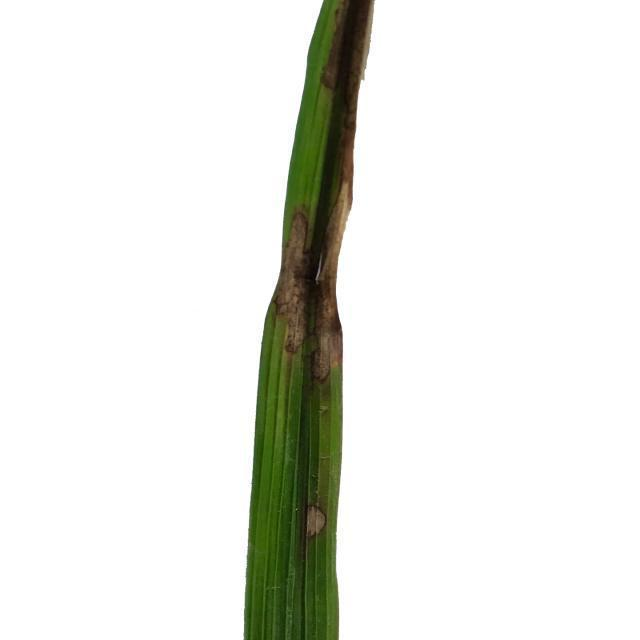Bacterial_Leaf_Blight: (278, 209, 347, 384), (320, 0, 364, 230), (298, 490, 329, 550)
